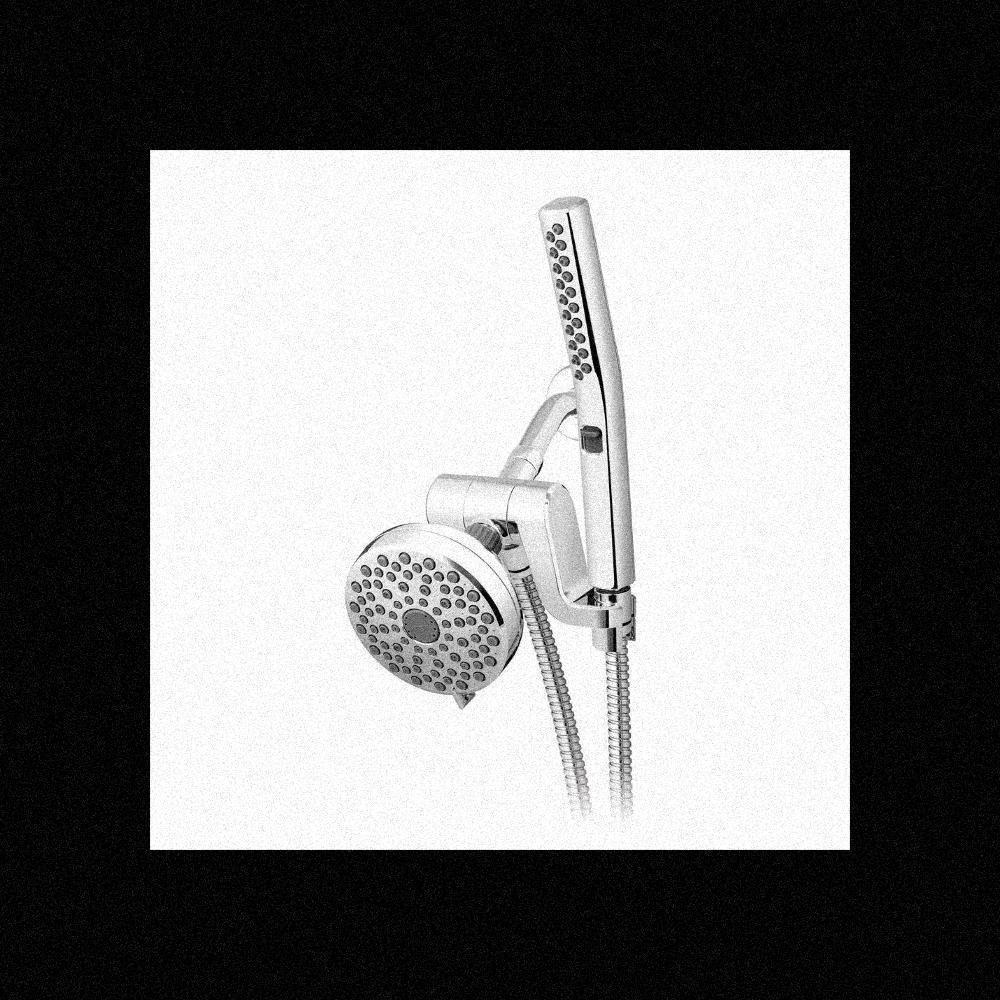Ducha: (381, 180, 706, 849)
